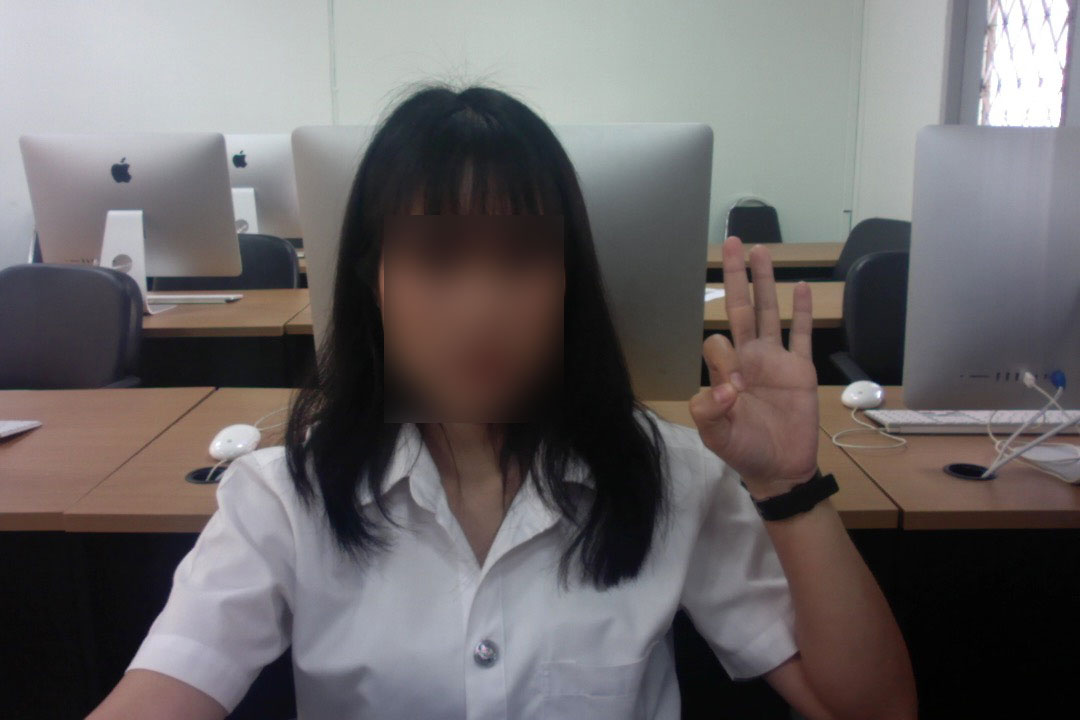for: (664, 212, 869, 528)
